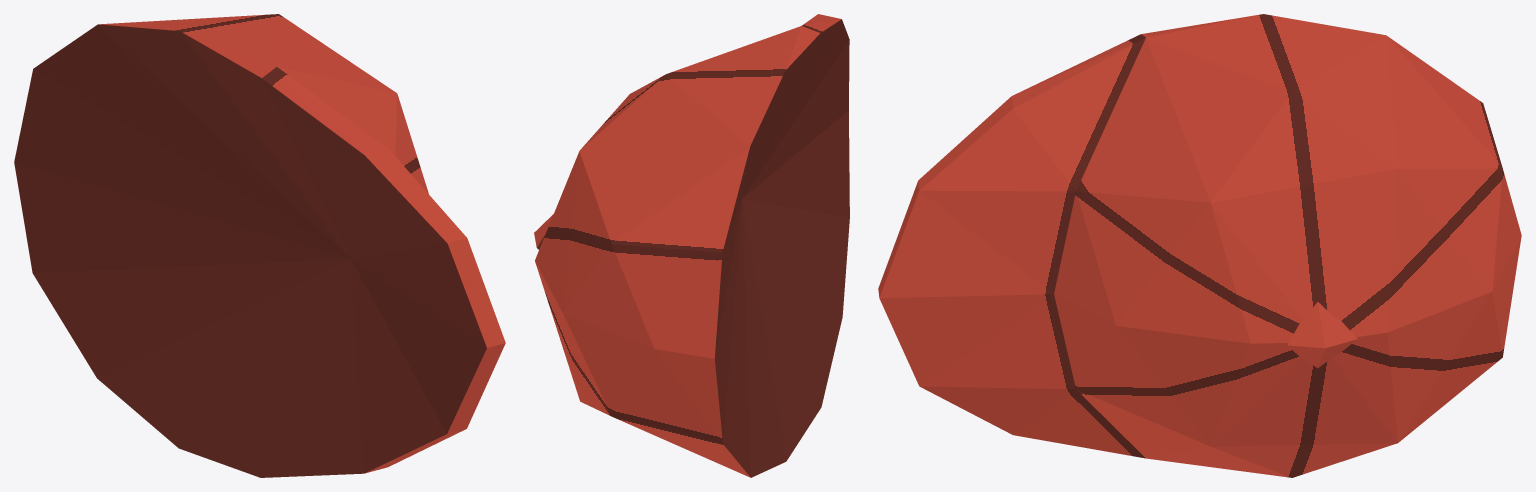
File: hat1.glb
3 renders of one model, left to right at view 1: azimuth 30°, elevation 25°; view 2: azimuth 150°, elevation 25°; view 3: azimuth 270°, elevation 25°, orthographic. The views are drawn at different scales.
Parts seen in each view (by area): view 1: tomodachi-2026-03-07-23-52-50-905.010; view 2: tomodachi-2026-03-07-23-52-50-905.010; view 3: tomodachi-2026-03-07-23-52-50-905.010.
Part boxes in pixels (left/top/right/bottom): tomodachi-2026-03-07-23-52-50-905.010: left=14, top=14, right=505, bottom=477; tomodachi-2026-03-07-23-52-50-905.010: left=534, top=14, right=849, bottom=477; tomodachi-2026-03-07-23-52-50-905.010: left=878, top=14, right=1521, bottom=477.
Bounding box in the file's own units: 0.8381 × 1.18 × 1.6.
1 material, 1 textured.
